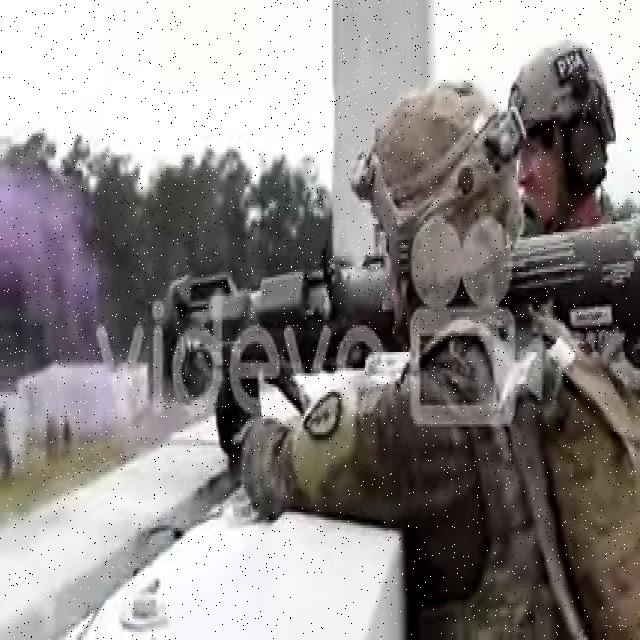bazooka: (157, 208, 640, 418)
